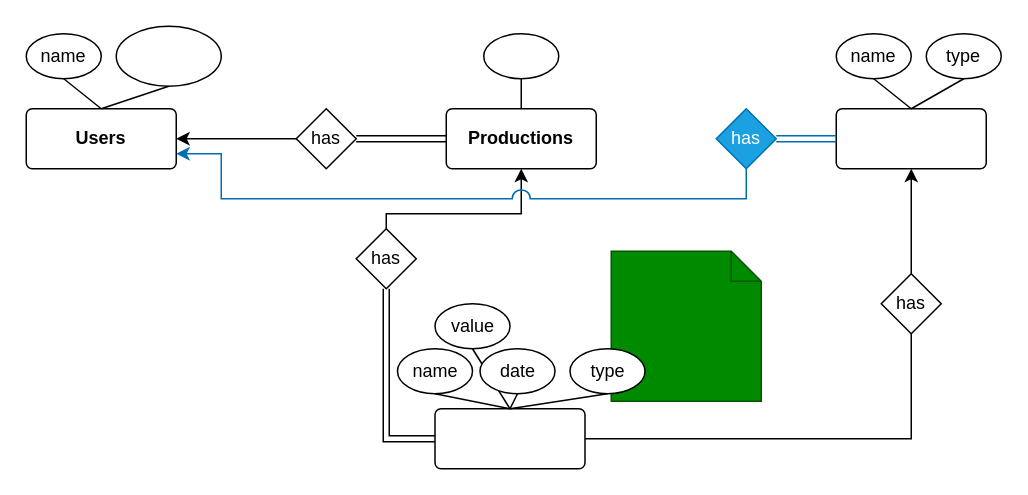
Image size: 1028x495. Some labels were removed from this diagram. The centre of each missing label's shape, as x and y in pixels:
Fields: the point at 910,138
lastname: the point at 168,55
type: enum = { "INCOME", "OUTCOME", "WEIGHT" }: the point at 685,325
Values: the point at 509,438
year: the point at 520,55
